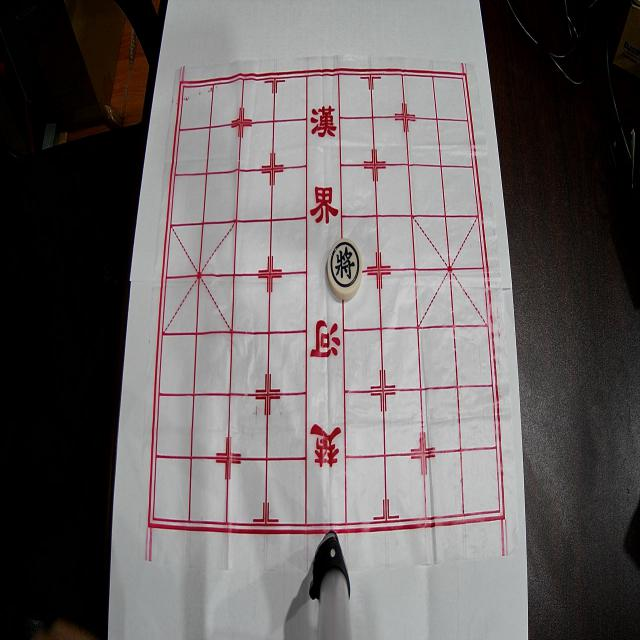black-general: (328, 238, 362, 300)
